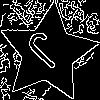J: (23, 28, 73, 78)
